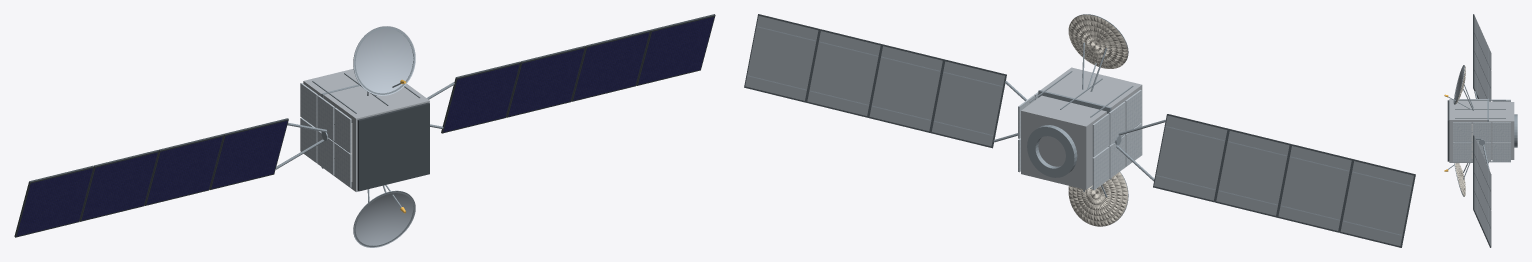
File: astra-1e-1f.glb
3 renders of one model, left to right at view 1: azimuth 30°, elevation 25°; view 2: azimuth 150°, elevation 25°; view 3: azimuth 270°, elevation 25°, orthographic. The views are drawn at different scales.
Parts seen in each view (by area): view 1: Solar cell panel (×8), Earth-facing deck, Solar panel frame (×8), Radiator bay (×6), Reflector 2 face, Payload module, Reflector 1 face, Service module, Reflector 2 edge, Reflector 1 edge; view 2: Rear array substrate (×8), Service module, Solar panel frame (×8), Radiator bay (×6), Reflector 2 insulated back, Payload module, Reflector 1 insulated back, Launch adapter ring, Module interface; view 3: Rear array substrate (×8), Radiator bay (×6), Payload module, Service module, Solar panel frame (×8), Reflector 1 insulated back, Earth-facing deck, Reflector 2 face, Launch adapter ring, Reflector 2 edge, Blanket closeout seam, Reflector 2 insulated back (+2 smaller).
Boxes of the visible parts, left/top/right/bottom form: Solar cell panel (×8): left=16, top=17, right=714, bottom=236; Earth-facing deck: left=357, top=102, right=429, bottom=191; Solar panel frame (×8): left=14, top=14, right=715, bottom=237; Radiator bay (×6): left=300, top=83, right=351, bottom=187; Reflector 2 face: left=353, top=26, right=415, bottom=95; Payload module: left=323, top=84, right=429, bottom=191; Reflector 1 face: left=353, top=191, right=415, bottom=247; Service module: left=303, top=68, right=358, bottom=96; Reflector 2 edge: left=353, top=26, right=414, bottom=94; Reflector 1 edge: left=353, top=190, right=414, bottom=246; Rear array substrate (×8): left=745, top=16, right=1413, bottom=245; Service module: left=1021, top=95, right=1106, bottom=189; Solar panel frame (×8): left=744, top=14, right=1415, bottom=247; Radiator bay (×6): left=1092, top=90, right=1141, bottom=190; Reflector 2 insulated back: left=1068, top=14, right=1127, bottom=68; Payload module: left=1041, top=67, right=1142, bottom=154; Reflector 1 insulated back: left=1068, top=172, right=1127, bottom=226; Launch adapter ring: left=1027, top=125, right=1077, bottom=177; Module interface: left=1038, top=90, right=1111, bottom=179; Rear array substrate (×8): left=1474, top=15, right=1490, bottom=246; Radiator bay (×6): left=1453, top=122, right=1510, bottom=162; Payload module: left=1449, top=99, right=1487, bottom=162; Service module: left=1489, top=102, right=1514, bottom=159; Solar panel frame (×8): left=1473, top=14, right=1491, bottom=247; Reflector 1 insulated back: left=1455, top=163, right=1465, bottom=196; Earth-facing deck: left=1447, top=100, right=1449, bottom=161; Reflector 2 face: left=1453, top=65, right=1464, bottom=104; Launch adapter ring: left=1514, top=114, right=1517, bottom=147; Reflector 2 edge: left=1454, top=65, right=1464, bottom=104; Blanket closeout seam: left=1458, top=99, right=1505, bottom=100; Reflector 2 insulated back: left=1455, top=65, right=1465, bottom=104.
Size of the model in its own units: 25.98 by 7.96 by 4.12.
Materials: 10 (2 with a texture image).
